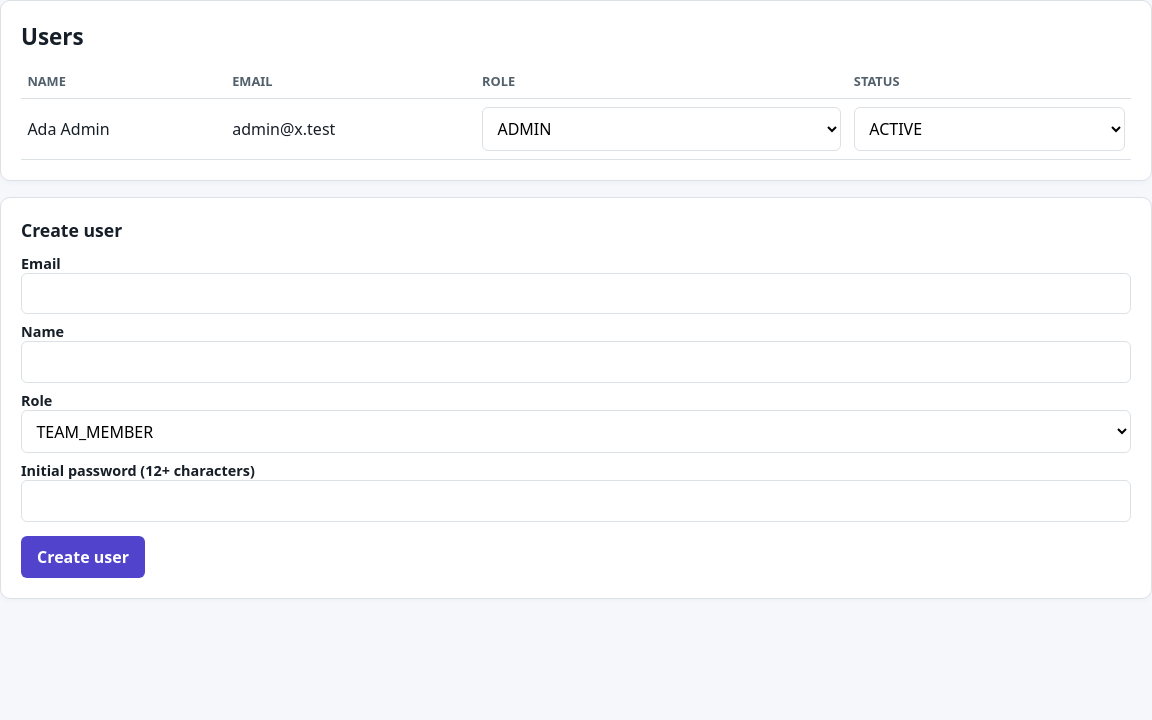
it: UsersAdminPage › creates a user, confirms success and reloads the list
Expected: the text "admin@x.test" is shown, [226,98,476,159]
Step 1. Type "new@x.test" into the field labelled "Email" → point(576, 293), box [21,273,1131,314]
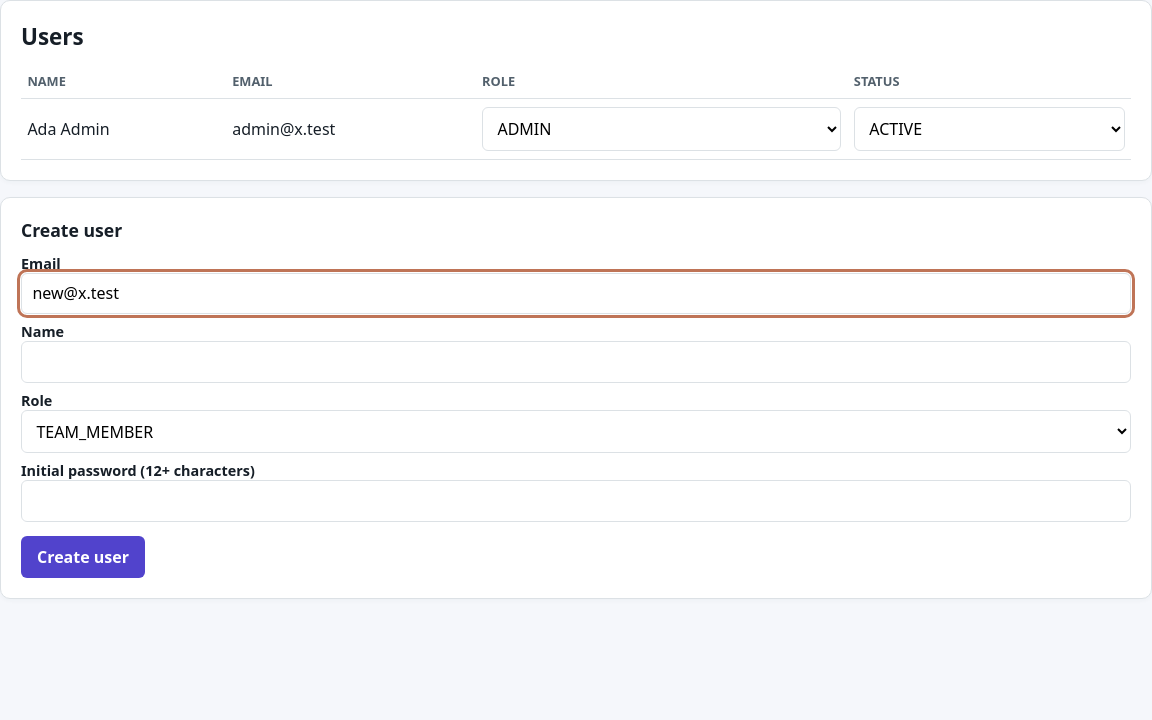
Step 2. Type "New One" into the field labelled "Name" → point(576, 362), box [21,341,1131,383]
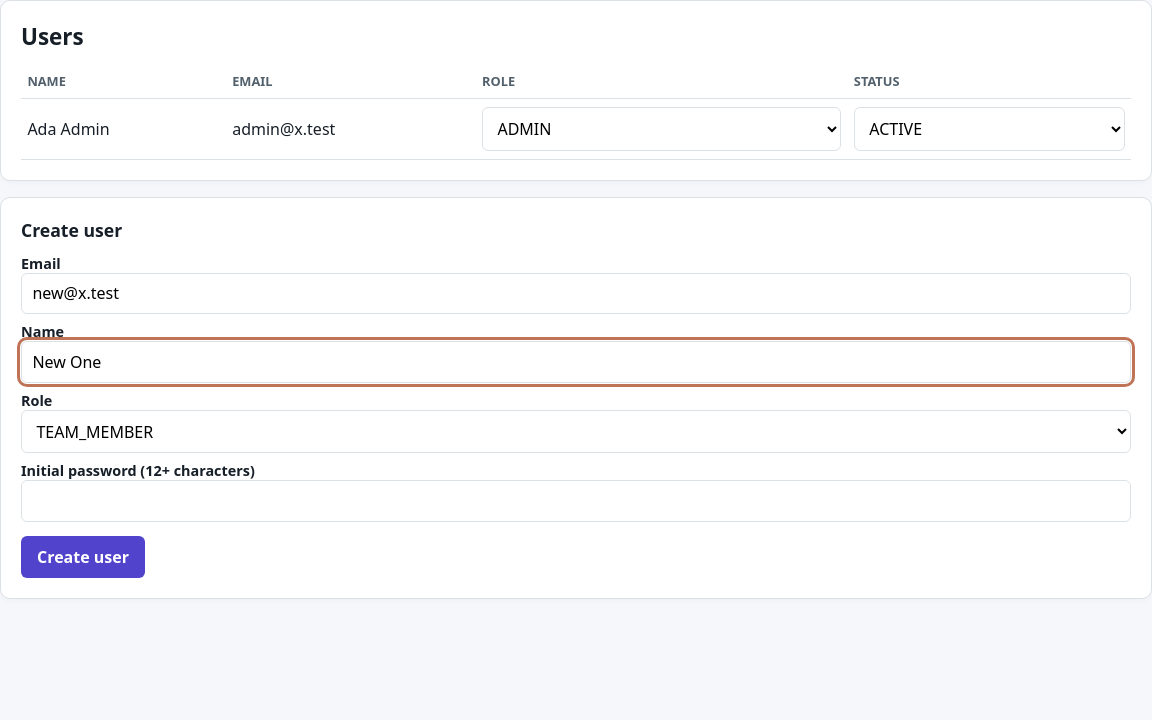
Step 3. Type "a-long-enough-password" into the password field labelled "Initial password (12+ characters)" → point(576, 501), box [21,480,1131,522]
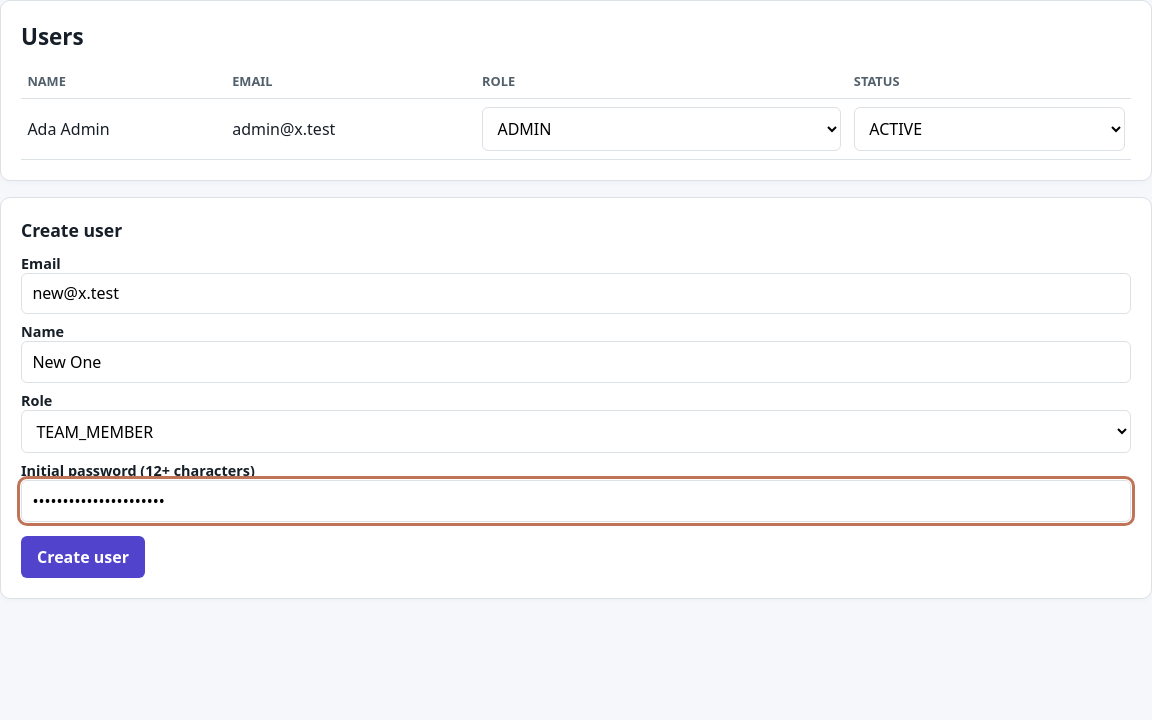
Step 4. Click the button "Create user" → point(83, 557), box [21,536,145,578]
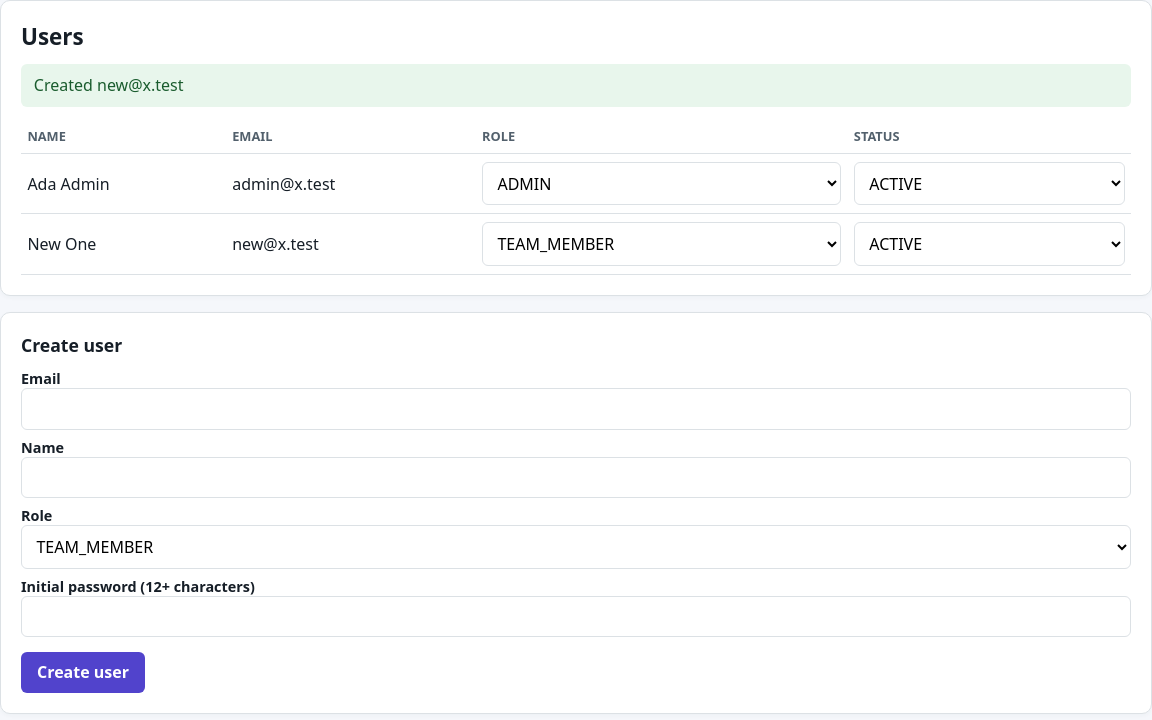
Result: the text "Created new@x.test" is shown at [21,64,1131,107]
Result: the cell "new@x.test" is shown at [226,214,476,274]
